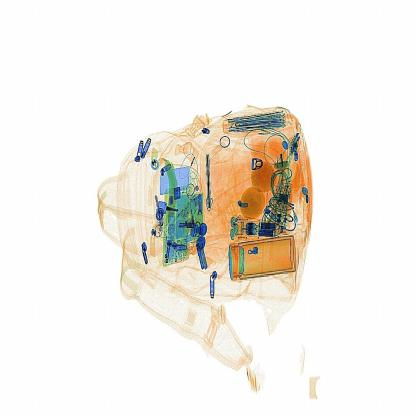knife: (202, 150, 216, 213)
